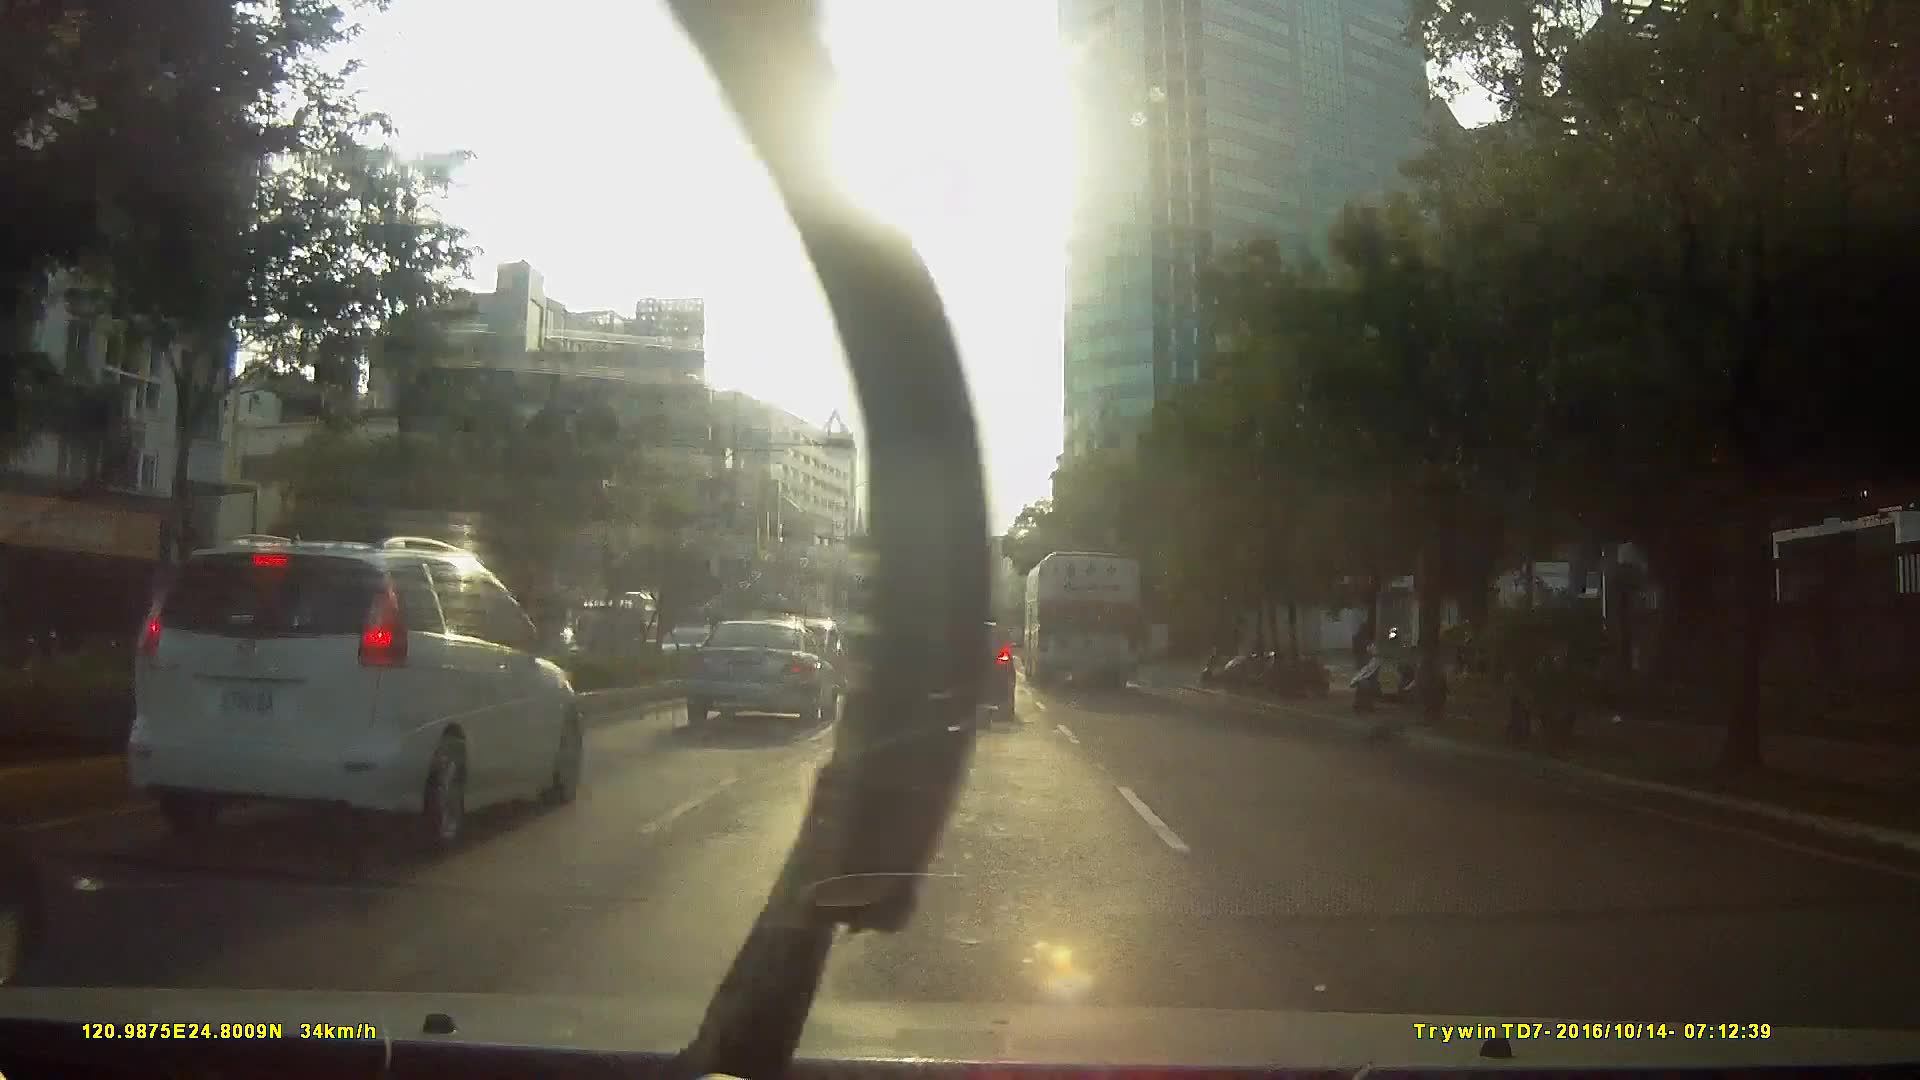vehicle: (112, 526, 589, 868), (251, 556, 684, 868), (674, 616, 835, 732), (1021, 541, 1143, 692), (897, 615, 1019, 723), (556, 587, 651, 669), (848, 620, 903, 675)
